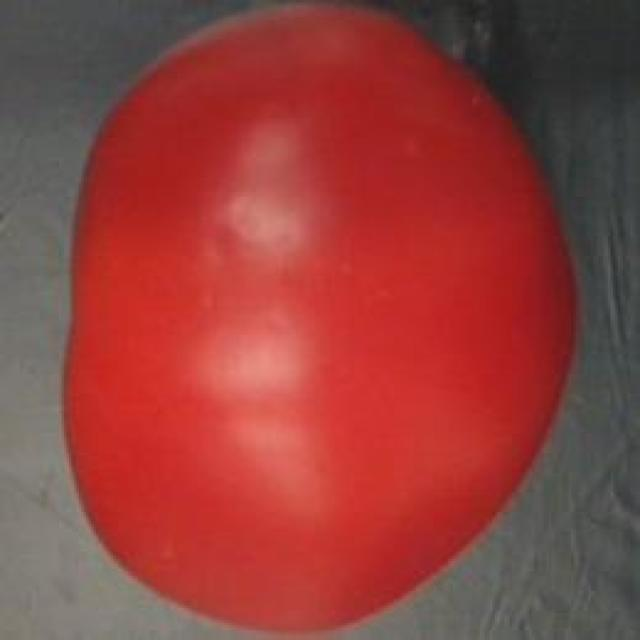ripe tomato: (59, 0, 586, 640)
